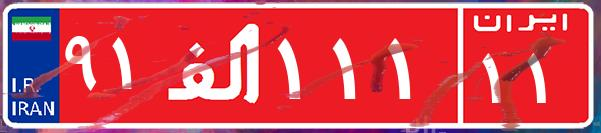1: (385, 28, 445, 110), (273, 28, 330, 110), (330, 28, 385, 110), (475, 38, 525, 113), (110, 28, 158, 105), (525, 38, 570, 115)
9: (57, 26, 110, 107)
الف: (158, 15, 273, 115)
